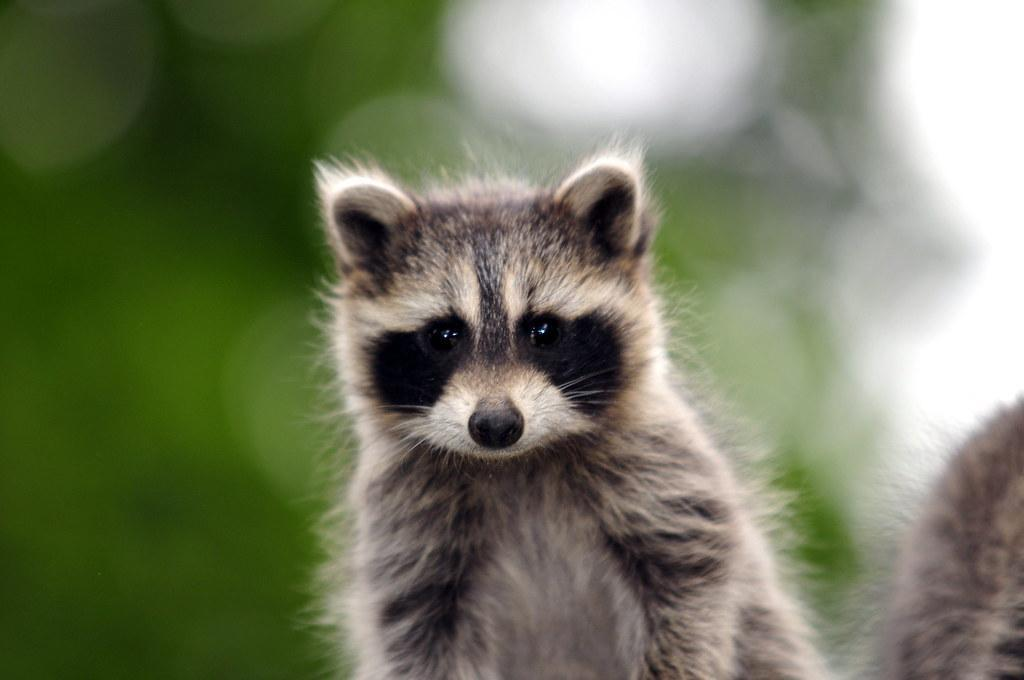raccoon: (312, 147, 1024, 680)
